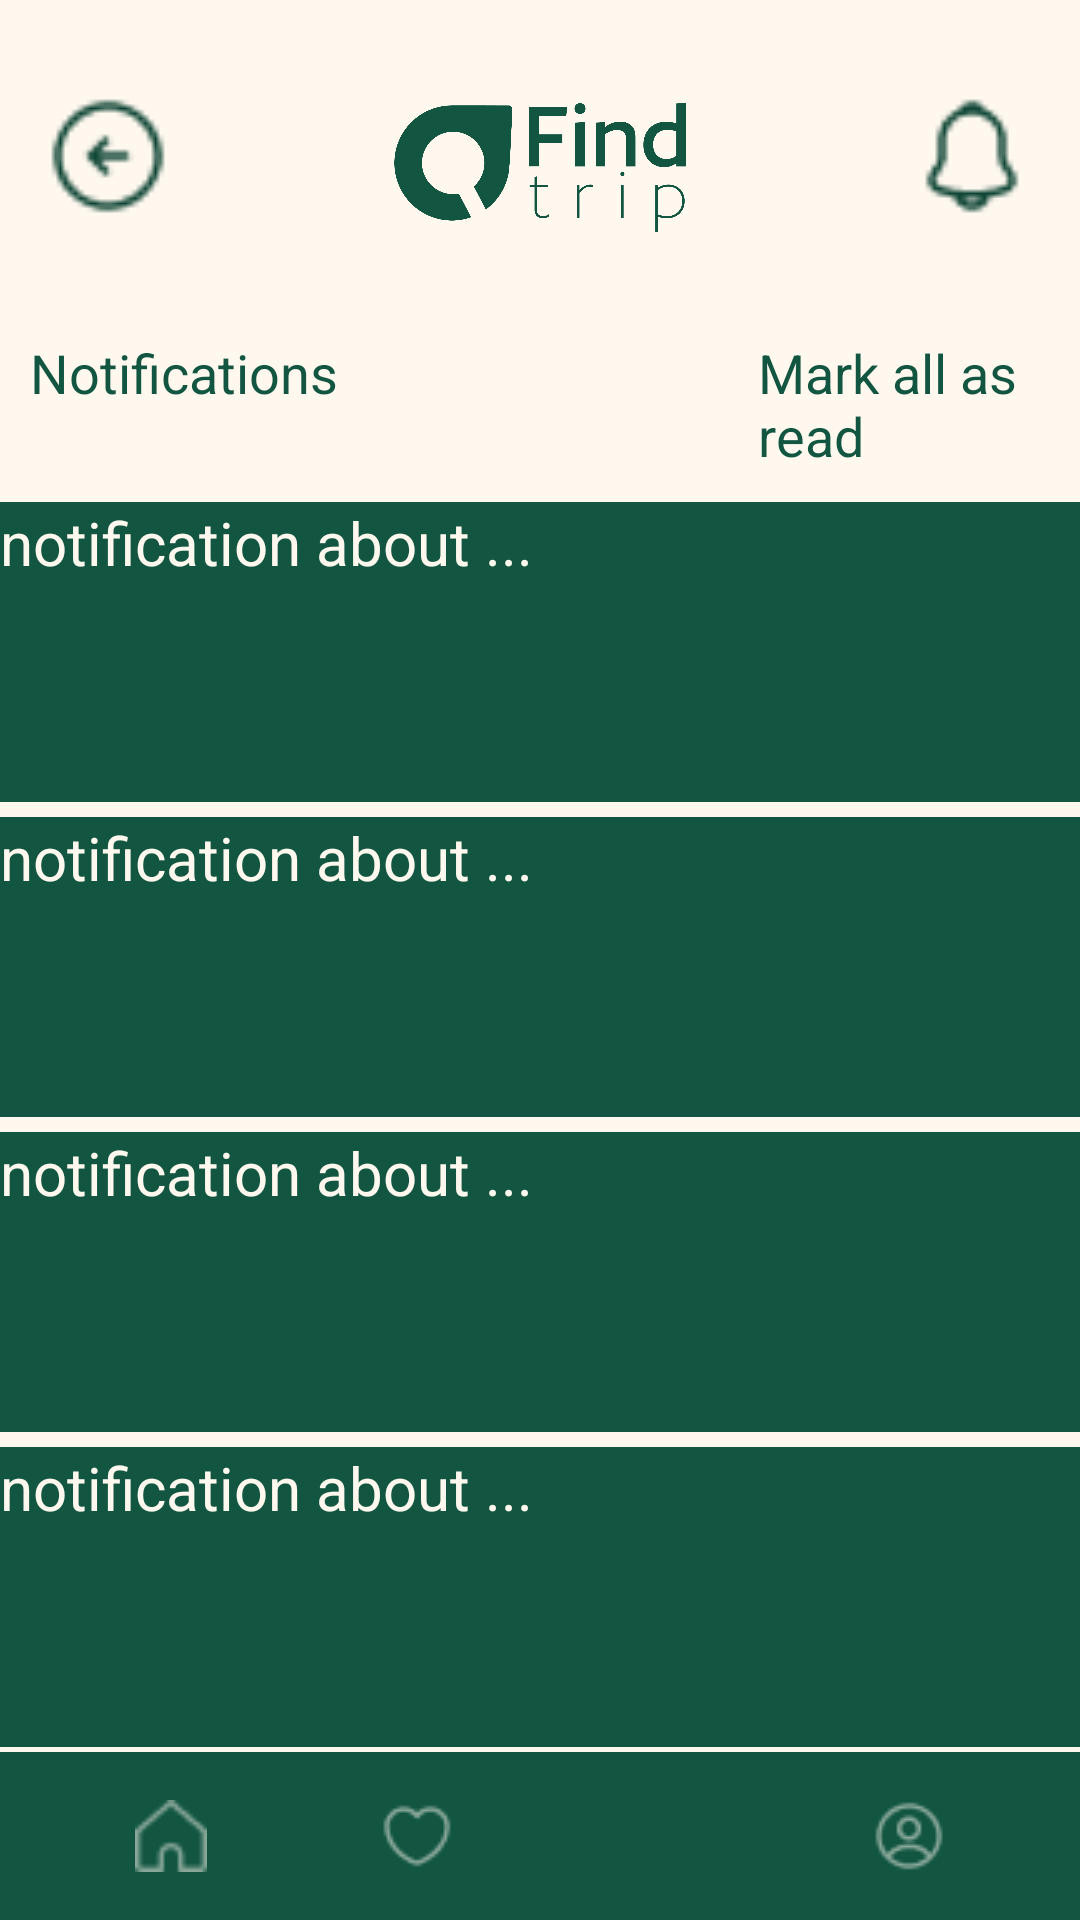

Named icons in this screenshot (1080 × 1920) and their bounding boxes, BBox(x1, y1, x2, y2):
back: BBox(51, 99, 165, 213)
favorite: BBox(383, 1805, 451, 1866)
home: BBox(135, 1800, 207, 1872)
notification: BBox(925, 99, 1019, 213)
profile: BBox(875, 1802, 943, 1870)
